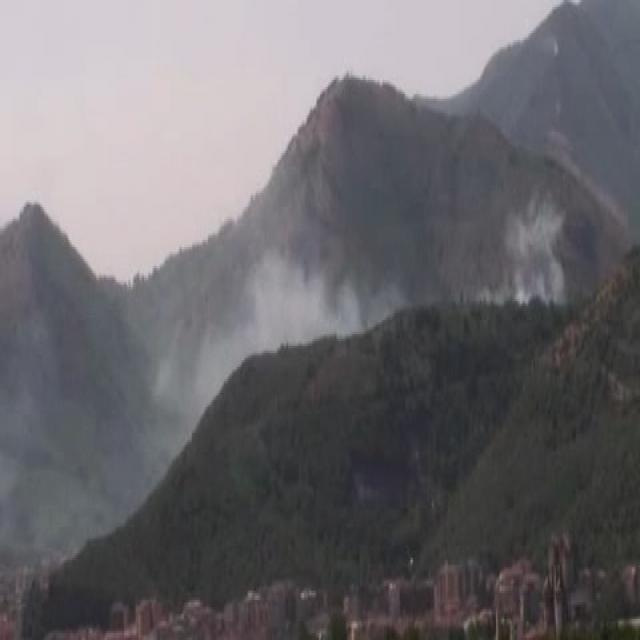smoke: (239, 255, 388, 336), (492, 204, 566, 300)
